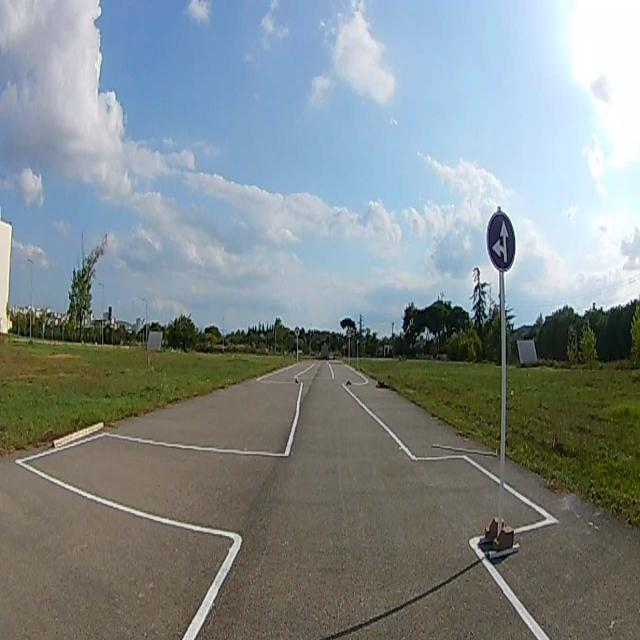ilerisol: (486, 213, 514, 271)
